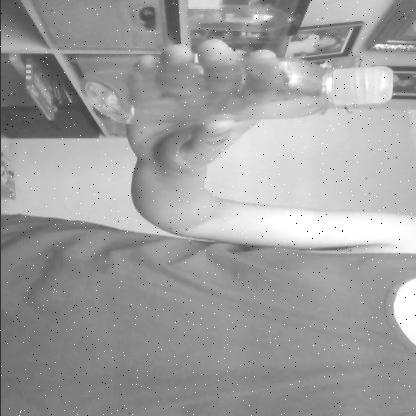Plastic Bottle: (83, 51, 391, 127)
